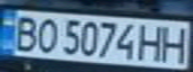0: (78, 18, 100, 57)
4: (115, 20, 142, 61)
5: (57, 17, 81, 56)
7: (96, 19, 121, 58)
B: (6, 12, 42, 52)
H: (157, 24, 190, 64), (136, 21, 166, 62)
O: (33, 16, 60, 54)
